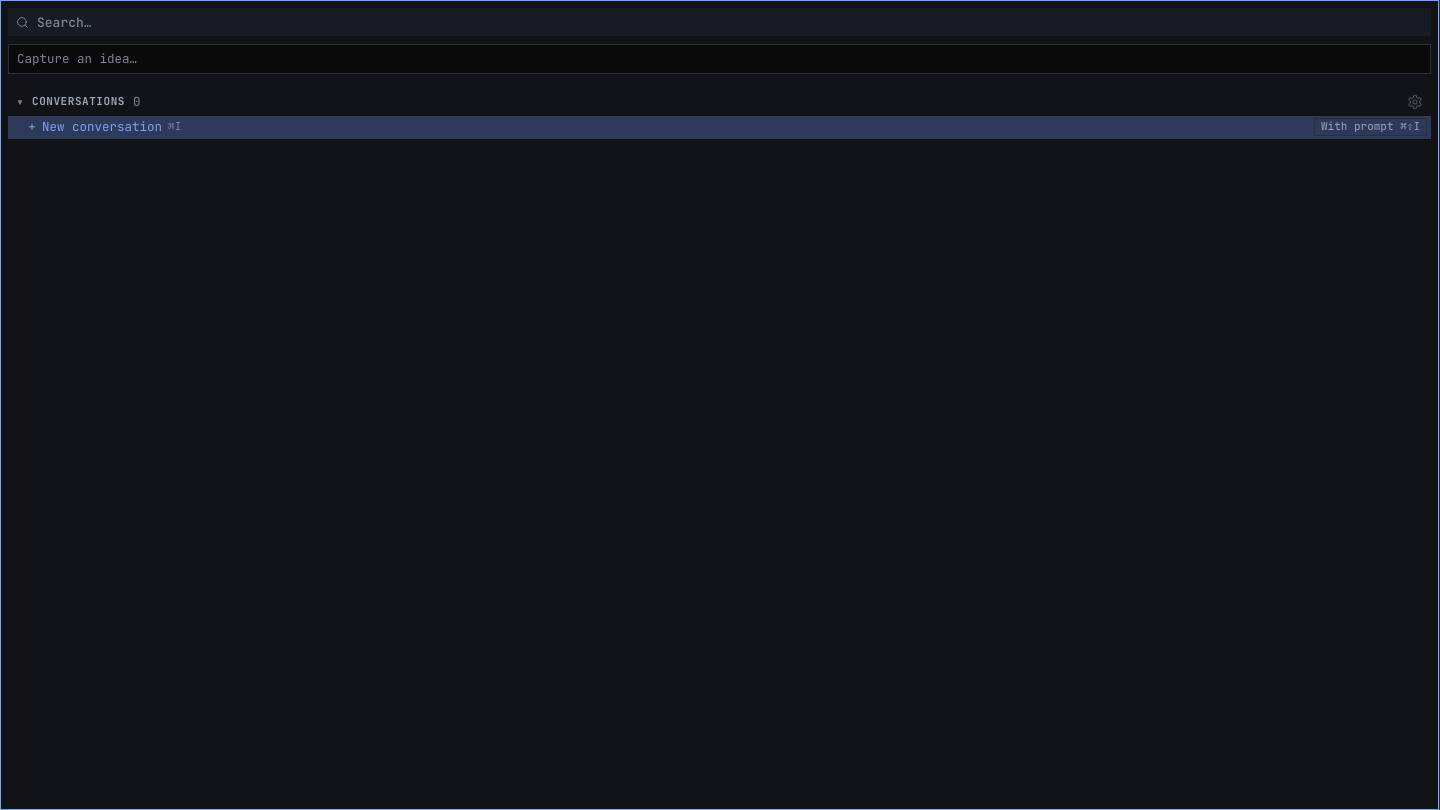
overhaul acceptance — Conversation shortcuts and composer › keeps a typed prompt when Escape closes the composer
Click the button with aria-label "Start a conversation with a prompt": coordinates (1370, 127) [1314,118,1427,136]
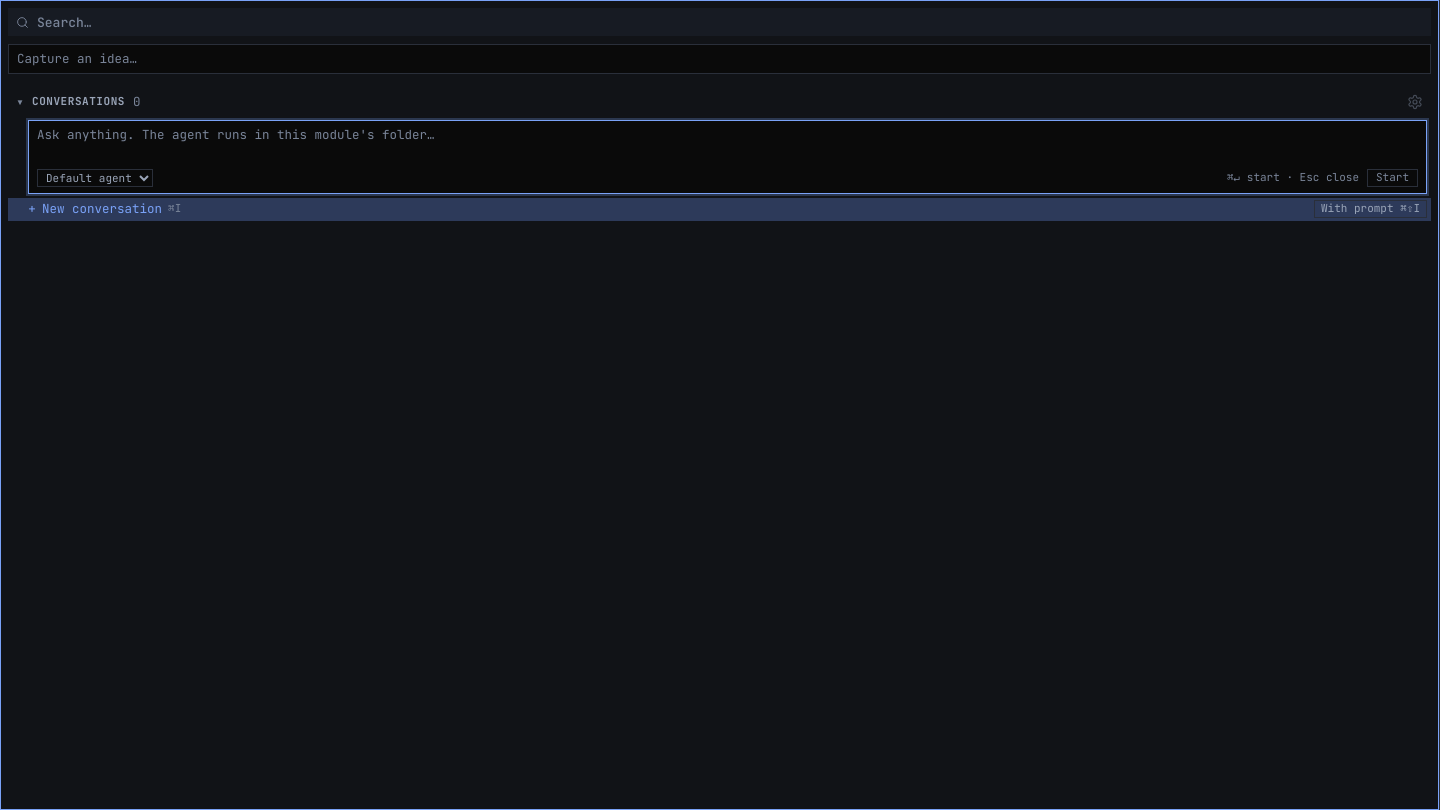
In the text box named "First message for the new conversation": coordinates (728, 145) [29,121,1426,169], type "Draft question"
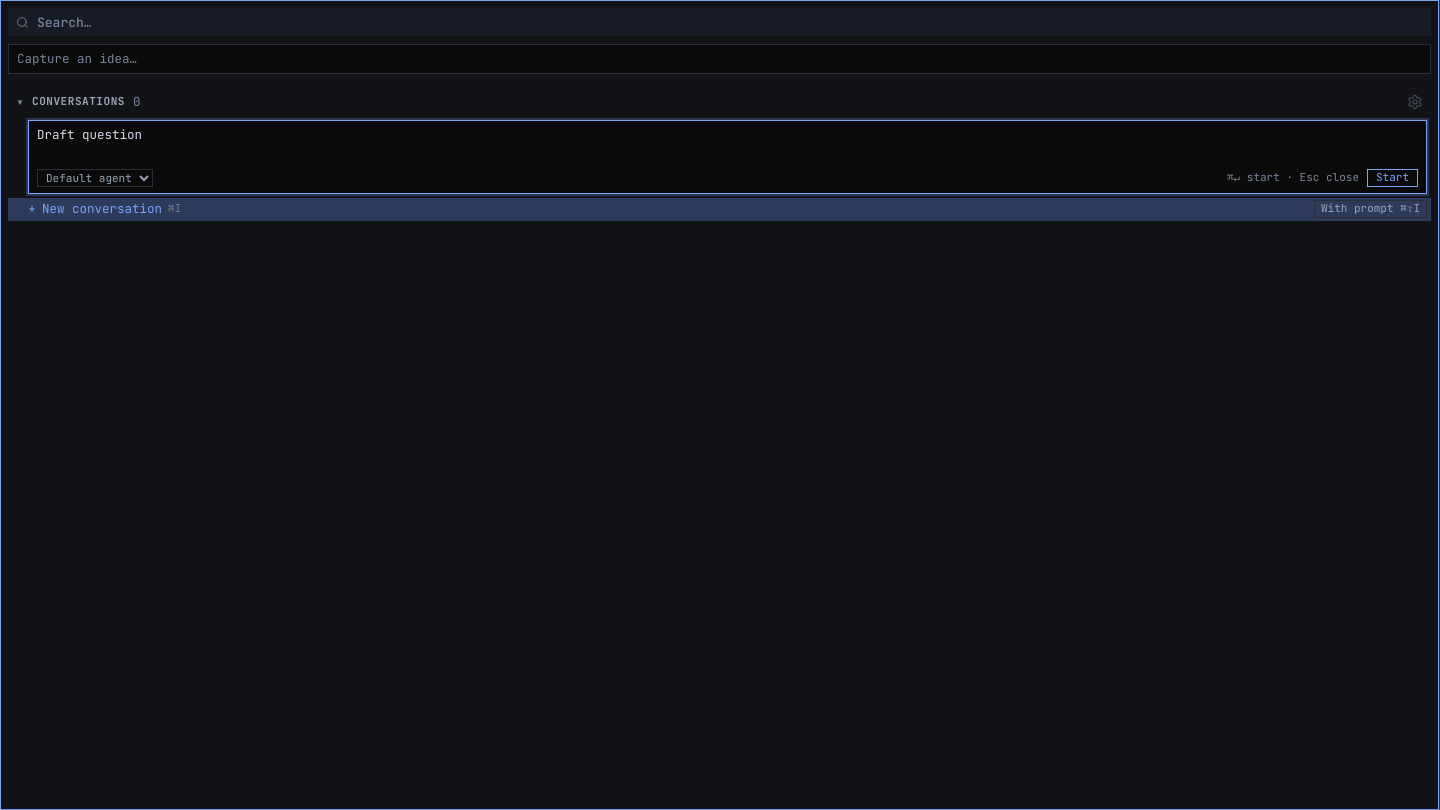
Press Escape in the text box named "First message for the new conversation", box [29,121,1426,169]
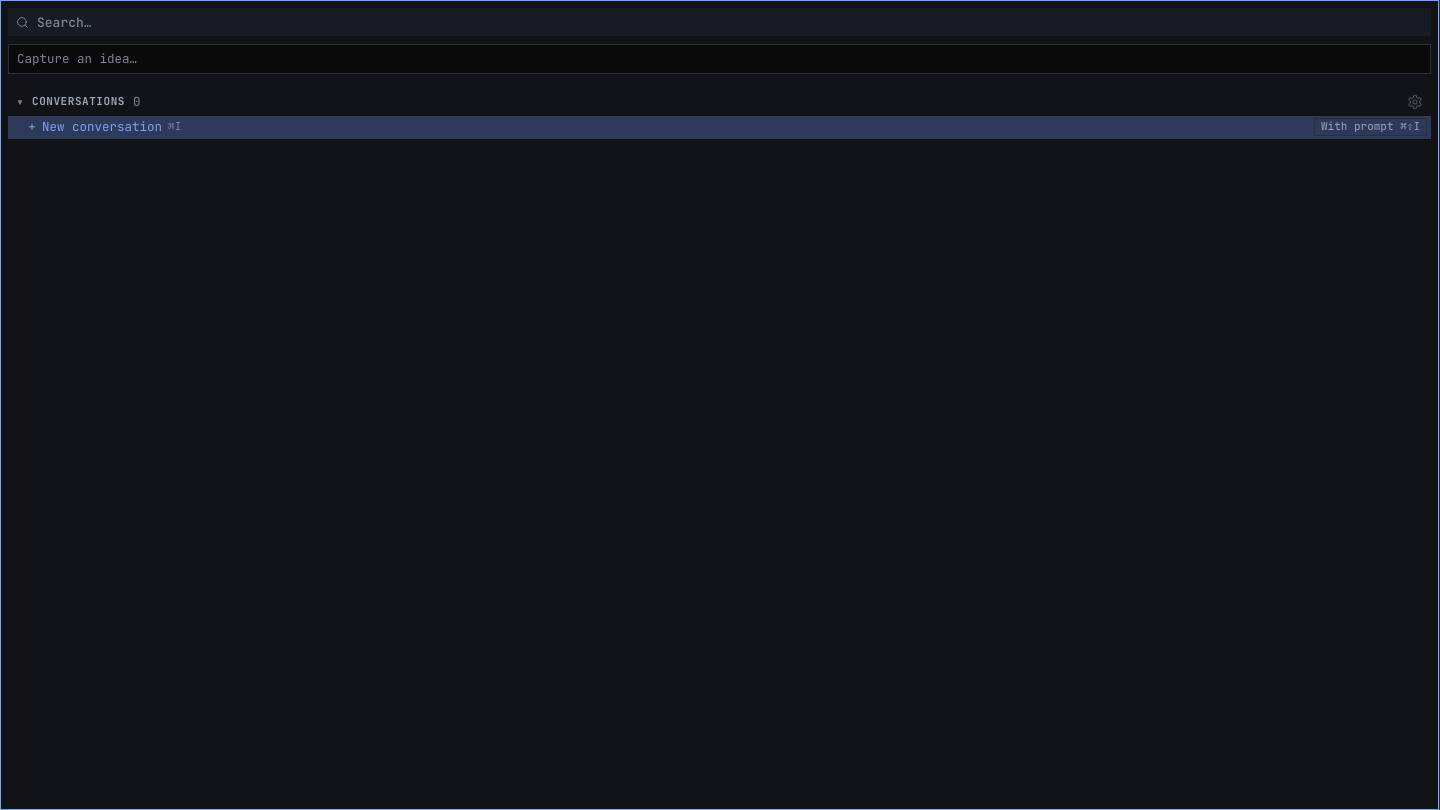
Press I
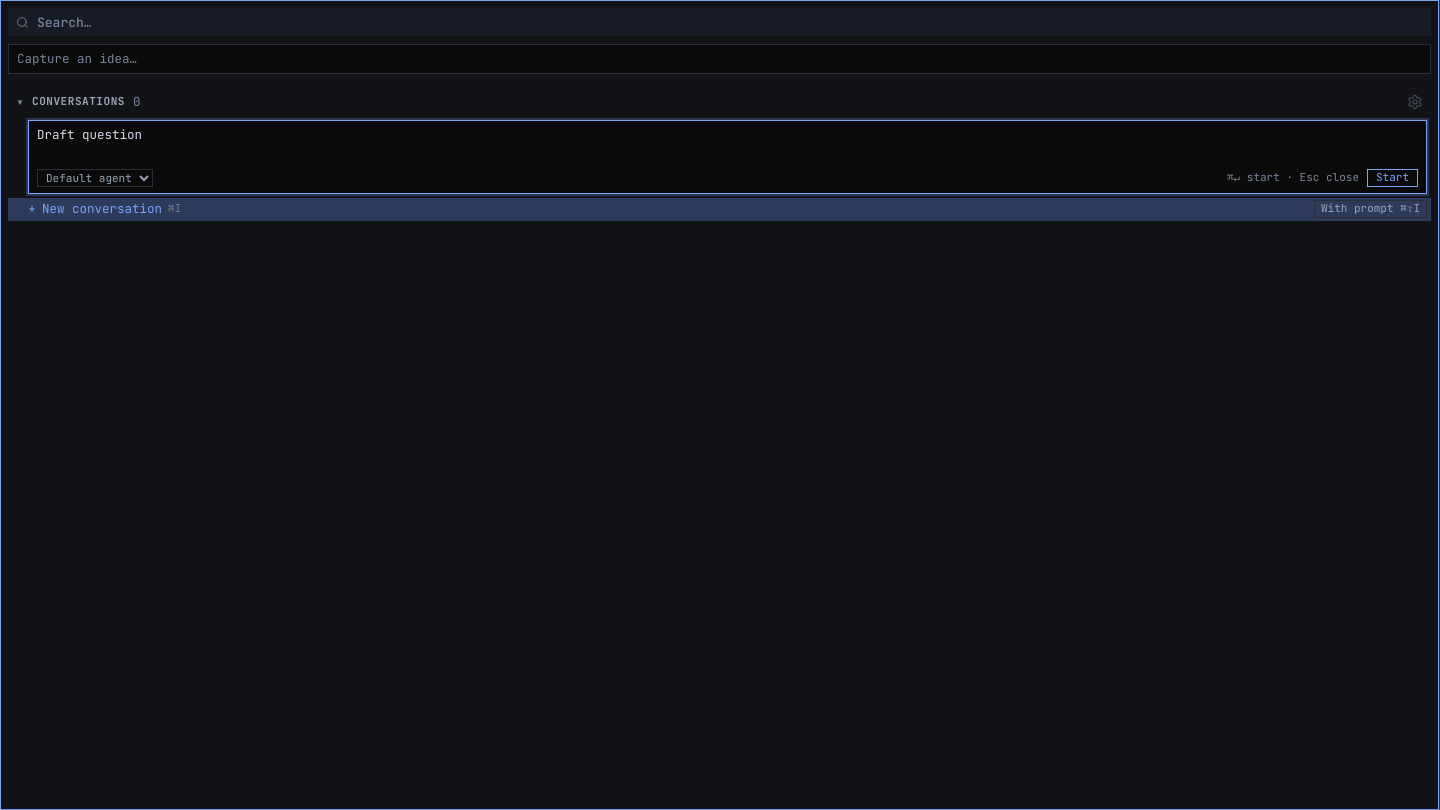
Check: the text box named "First message for the new conversation" holds "Draft question", box [29,121,1426,169]
